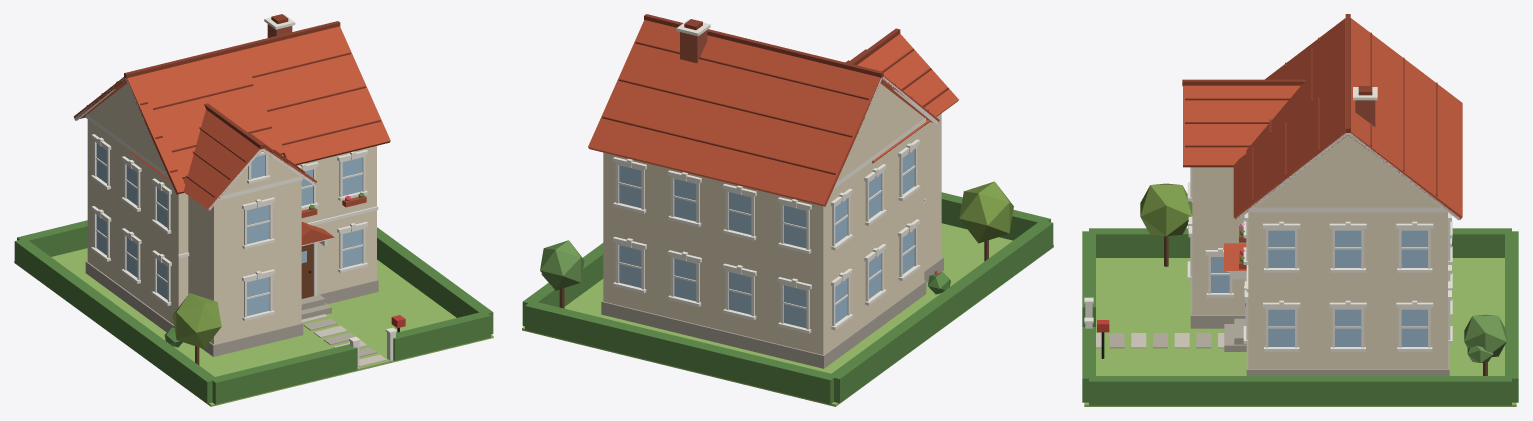
The model's file is MustakilEv_avrupa_1_2_Hafif.fbx.
3 views of the same model, side by side, from view 1: azimuth 30°, elevation 25°; view 2: azimuth 150°, elevation 25°; view 3: azimuth 270°, elevation 25° (orthographic). The views are drawn at different scales.
Visible parts, largest first — view 1: MustakilEv_avrupa_1_2_Hafif; view 2: MustakilEv_avrupa_1_2_Hafif; view 3: MustakilEv_avrupa_1_2_Hafif.
Part boxes in pixels (box(x1,y1,x2,y2)): MustakilEv_avrupa_1_2_Hafif: box(14, 14, 493, 406); MustakilEv_avrupa_1_2_Hafif: box(522, 14, 1053, 406); MustakilEv_avrupa_1_2_Hafif: box(1082, 14, 1518, 406).
Bounding box in the file's own units: 11.66 × 9.65 × 14.03.
